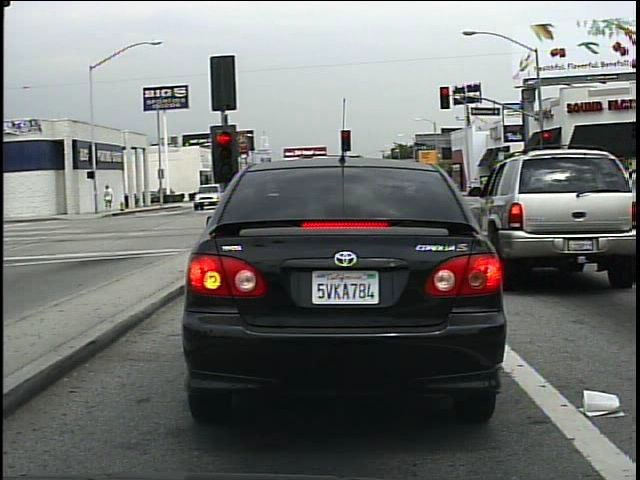person: (101, 182, 117, 212)
